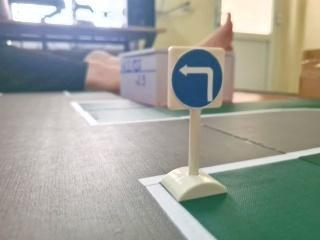left: (169, 46, 226, 109)
